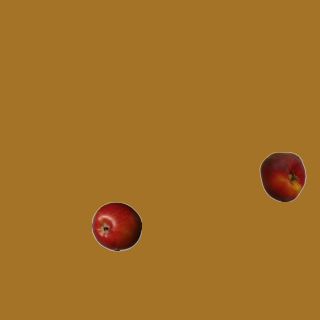Apple Braeburn: (91, 201, 141, 251)
Nectarine Flat: (257, 151, 307, 201)
